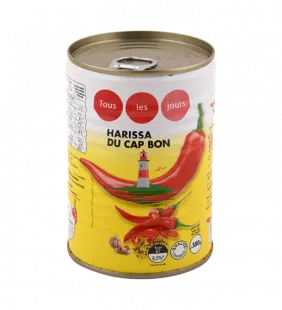Promotion: (59, 20, 227, 285)
